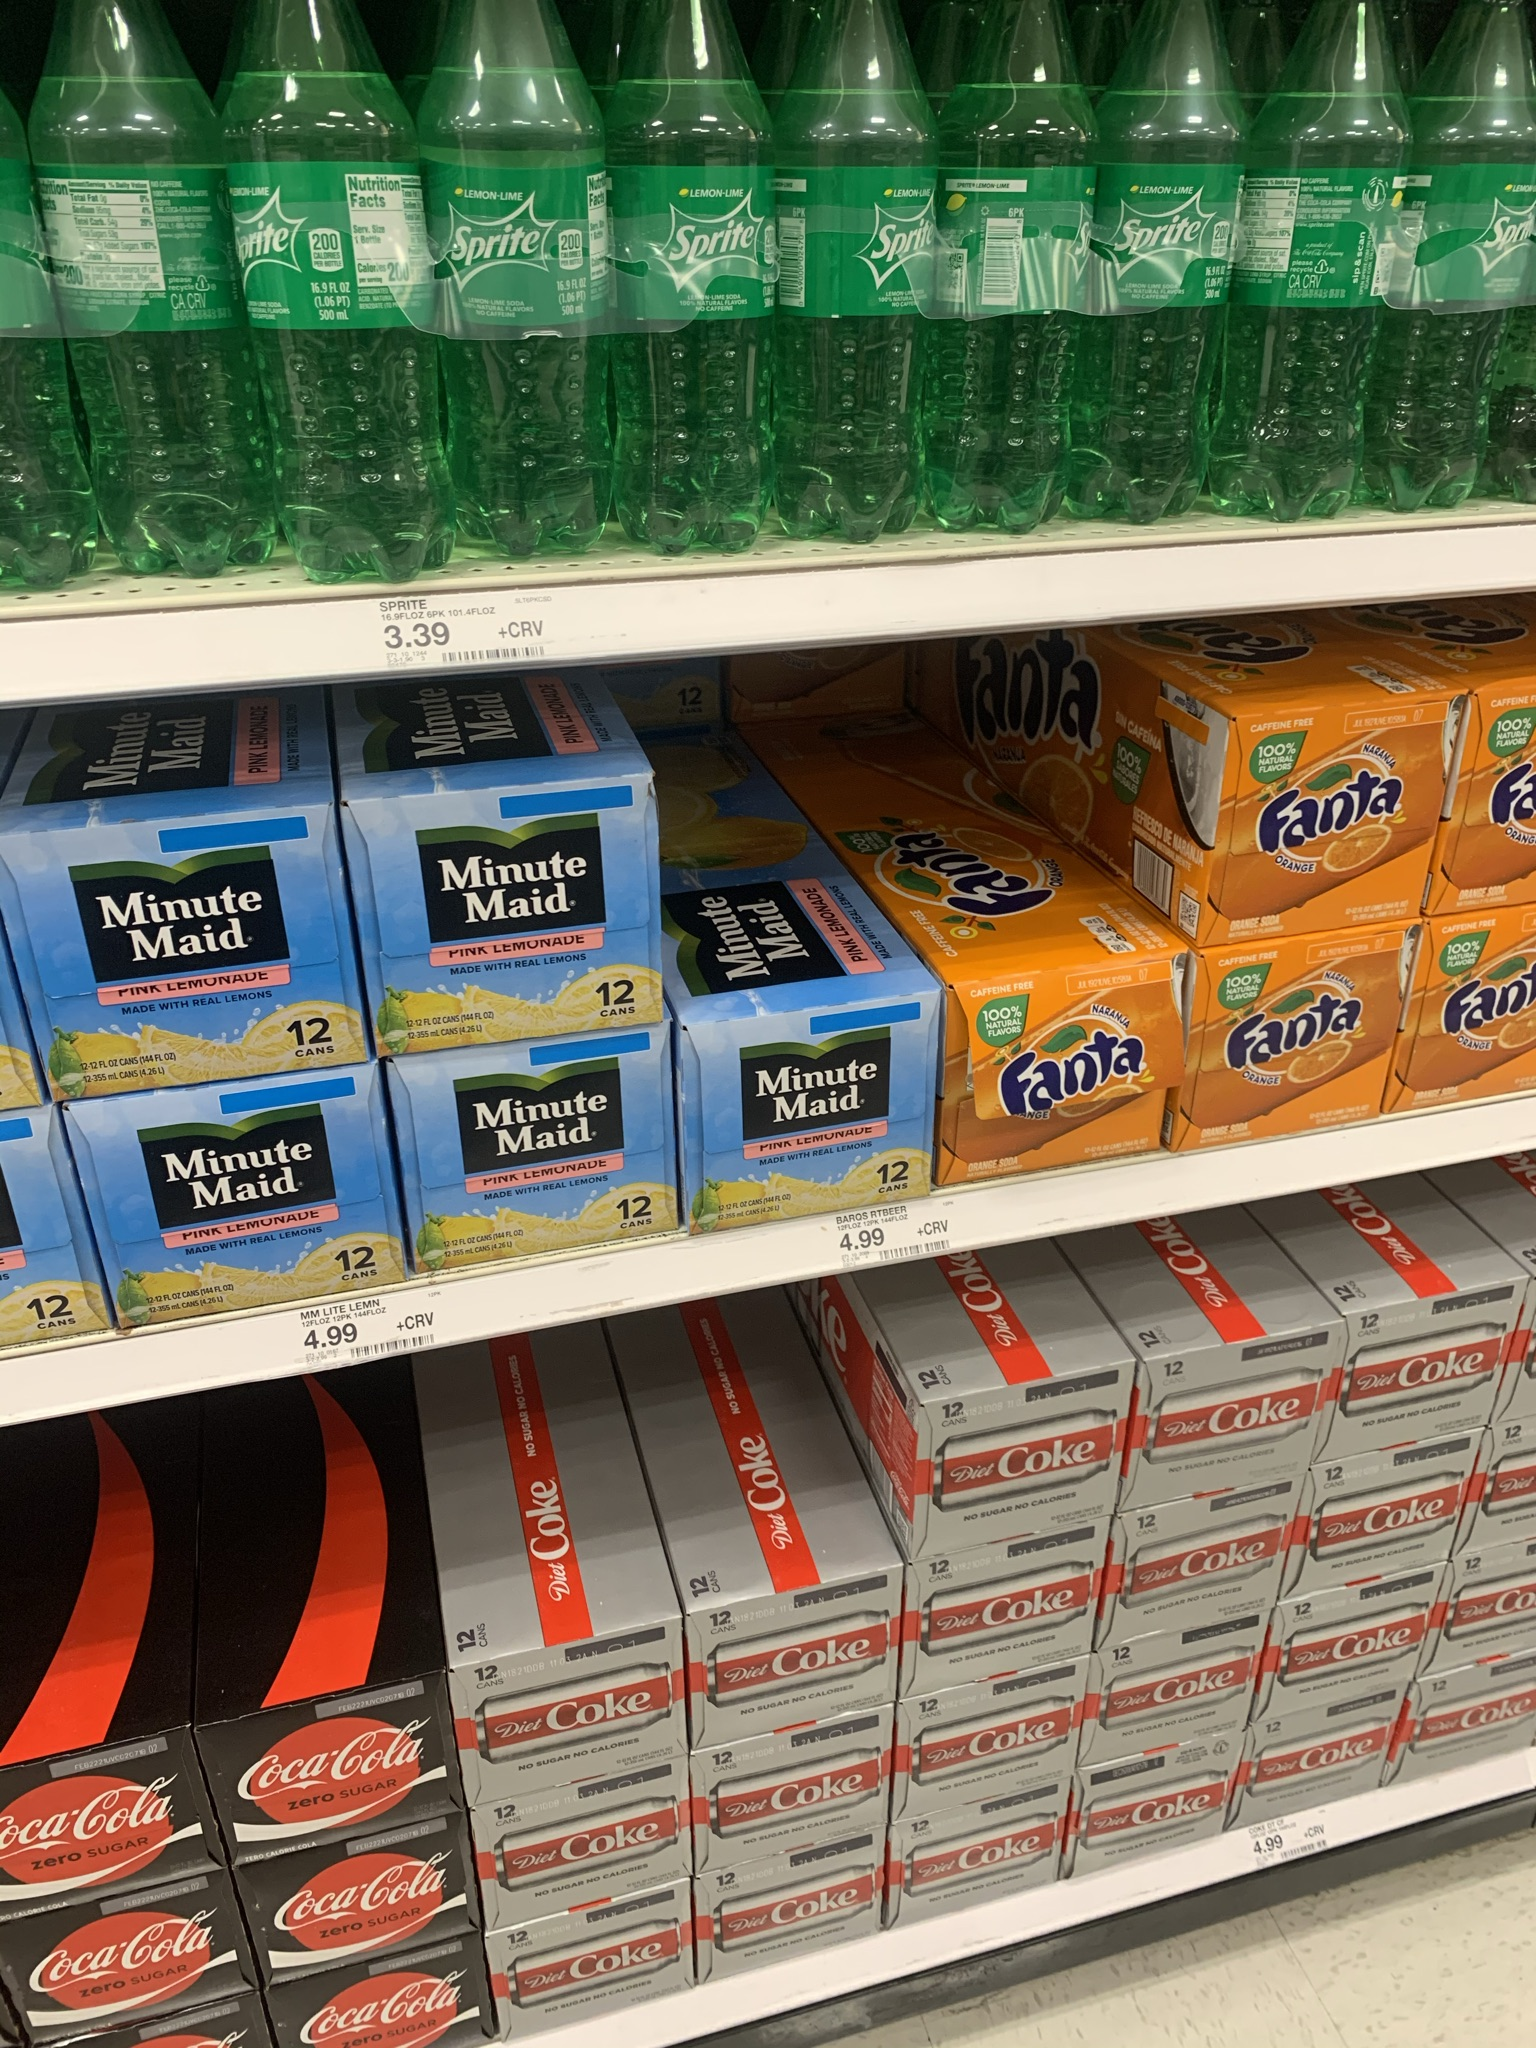Soda: (231, 2, 445, 584), (432, 5, 615, 555), (611, 2, 774, 558), (778, 5, 945, 540), (1236, 6, 1397, 518), (942, 3, 1097, 535), (352, 797, 658, 1022), (1104, 2, 1229, 522), (945, 989, 1167, 1151)
